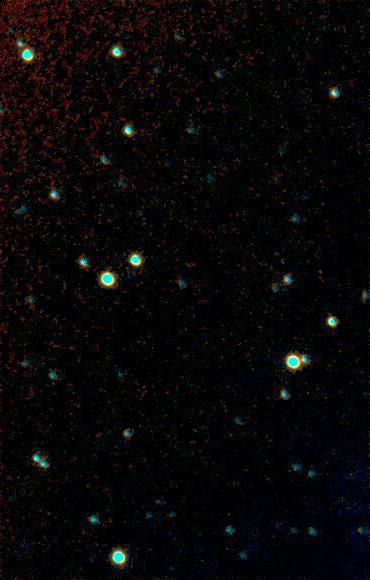star: (346, 515, 370, 545)
